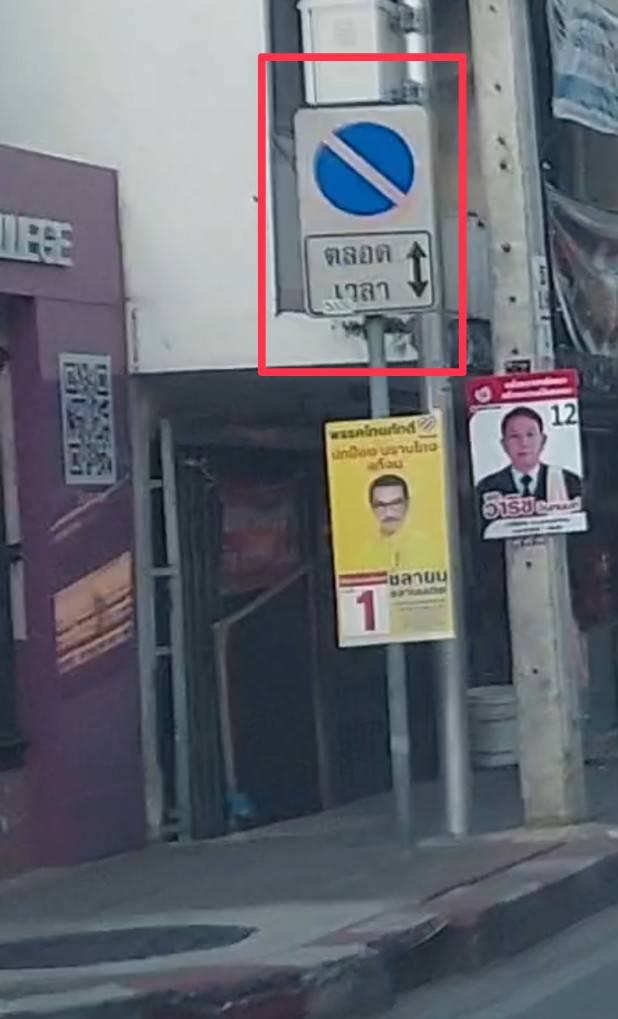Banner: (318, 419, 471, 648), (464, 374, 589, 549)
